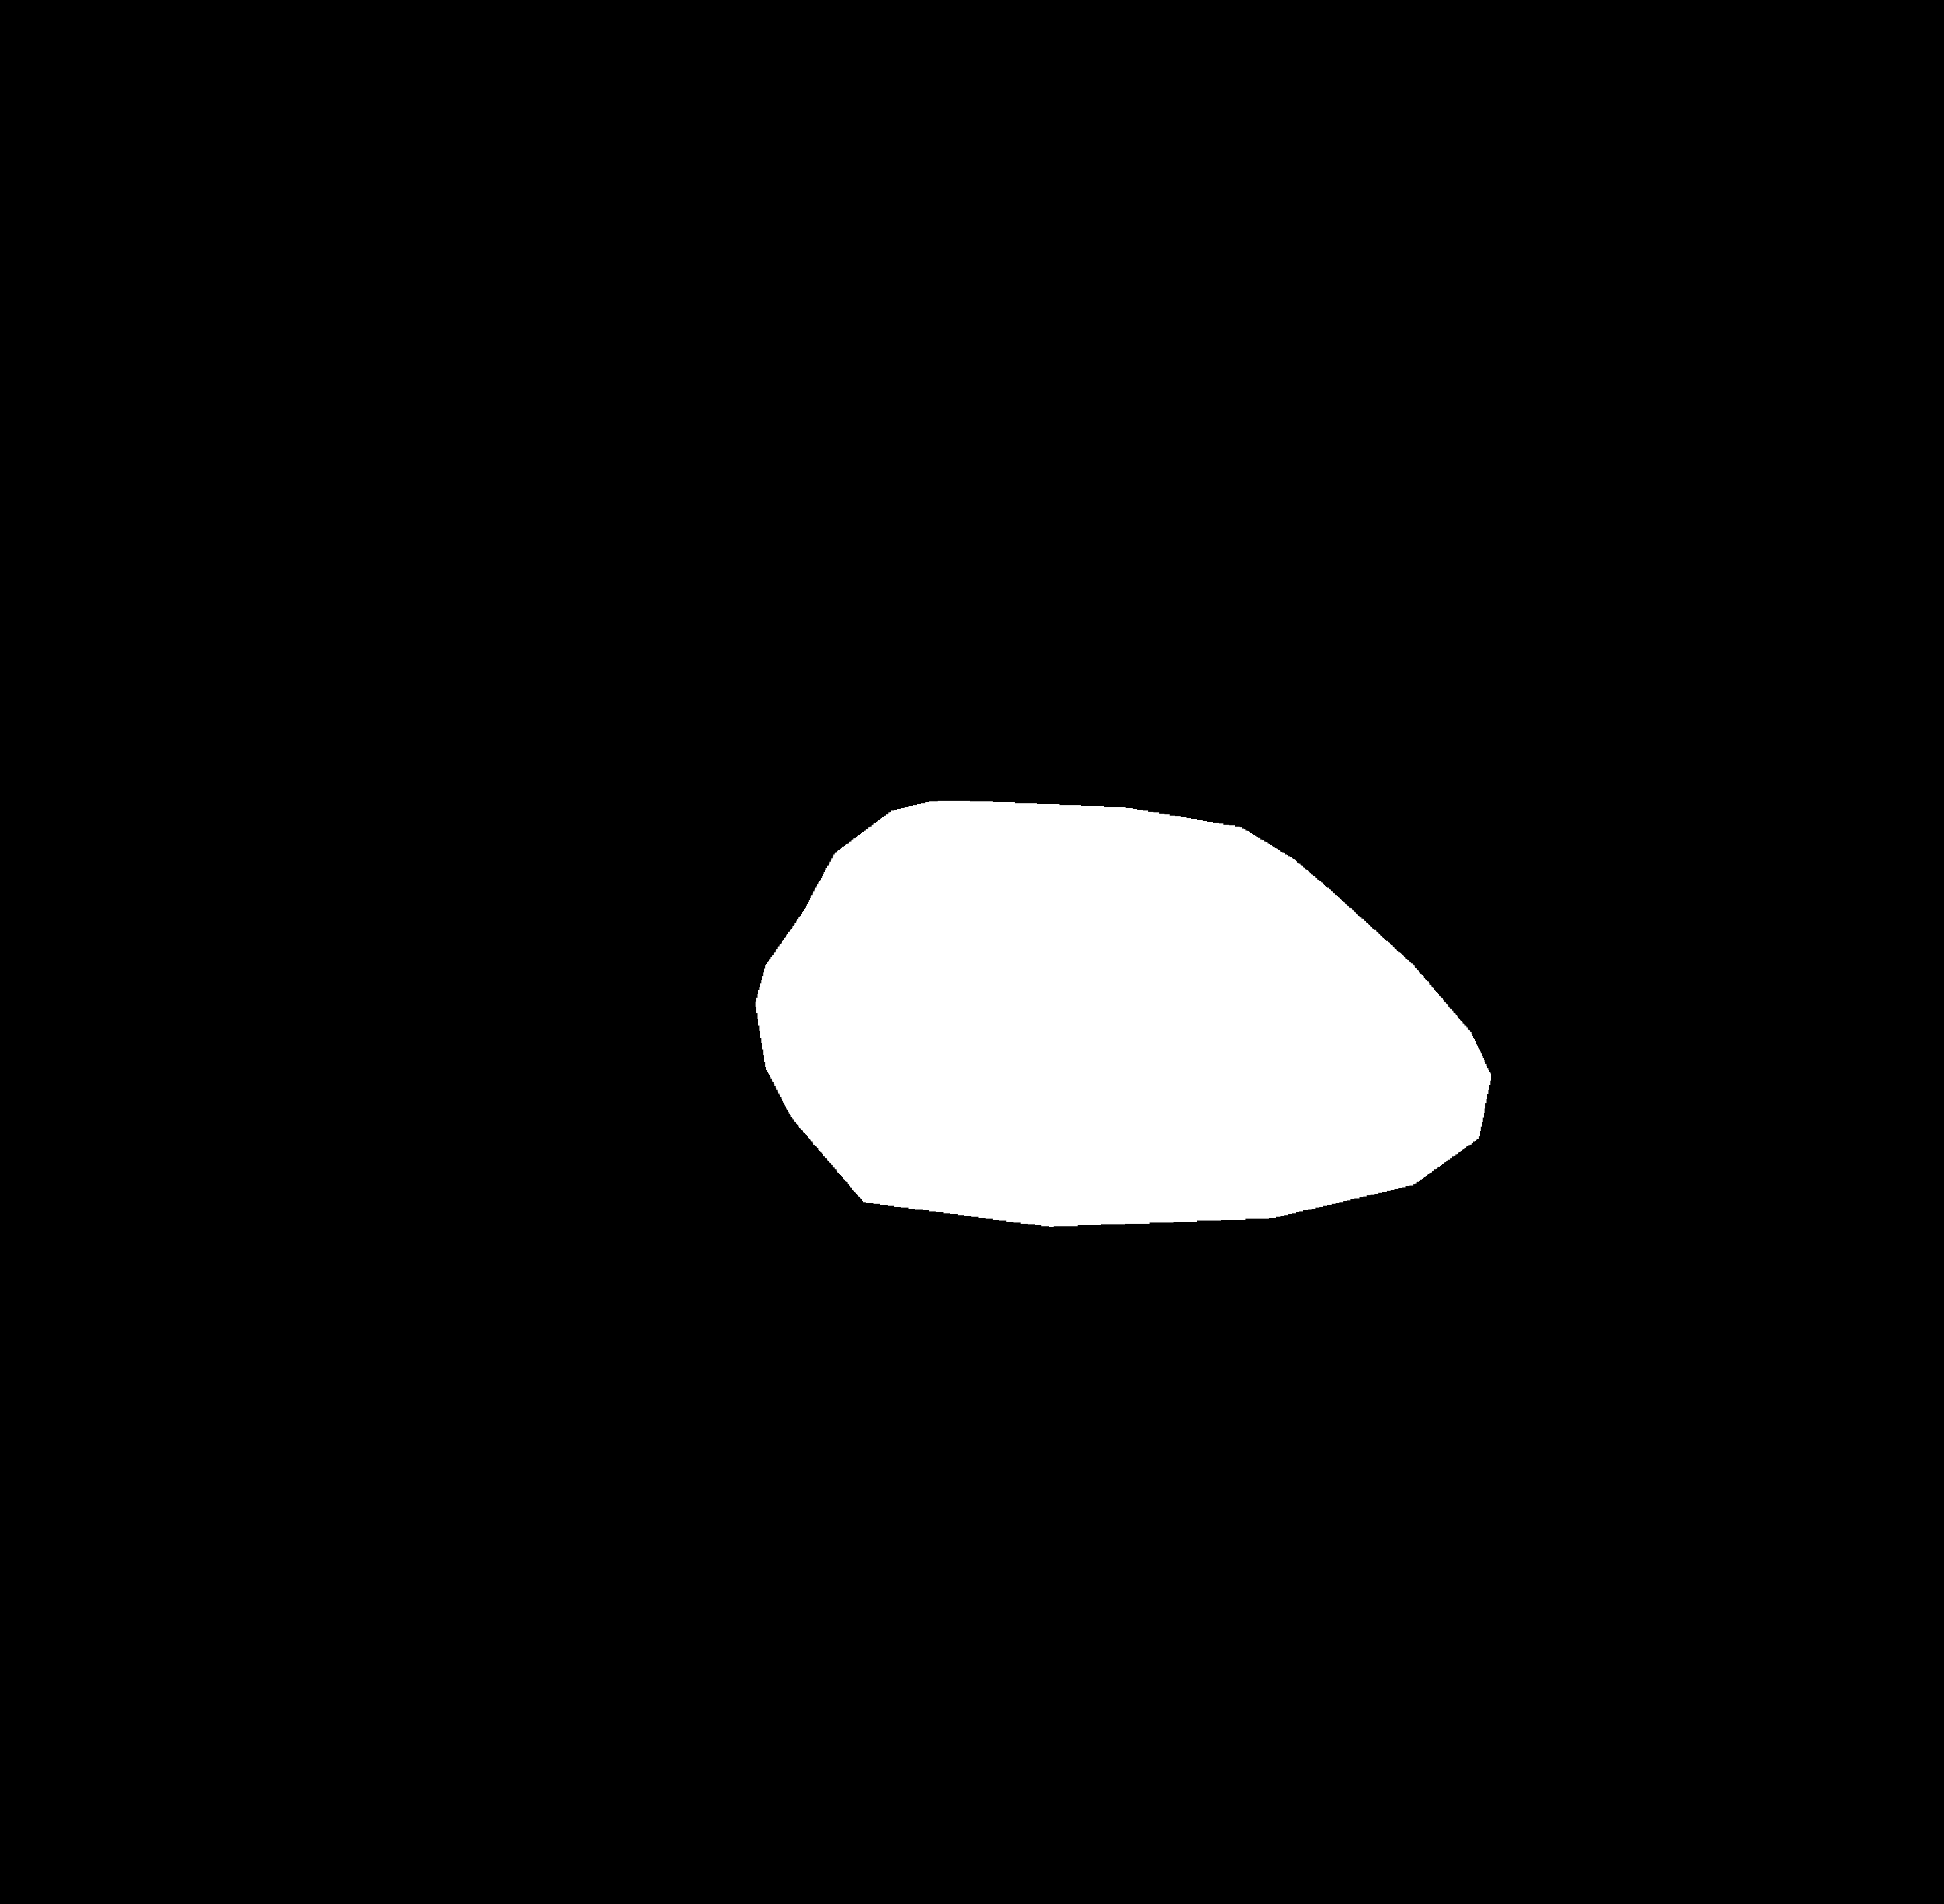heart: (757, 839, 1520, 1280)
left_lung: (310, 328, 900, 1147)
right_lung: (1081, 310, 1566, 1086)
